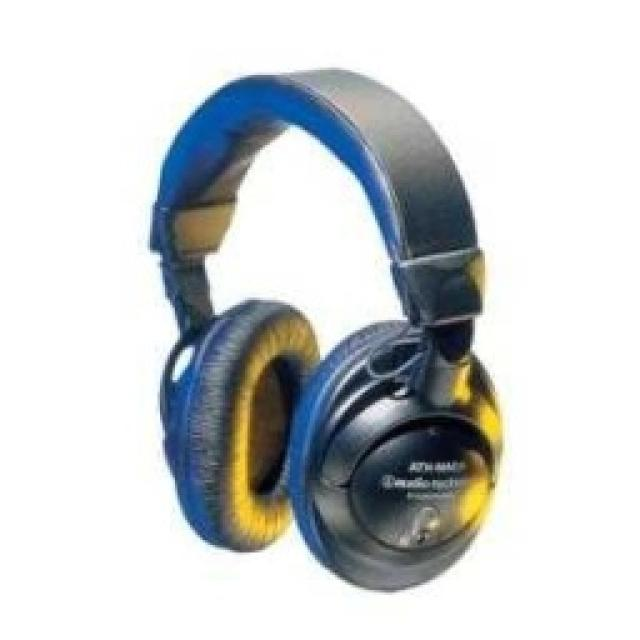headphones: (145, 62, 505, 592)
